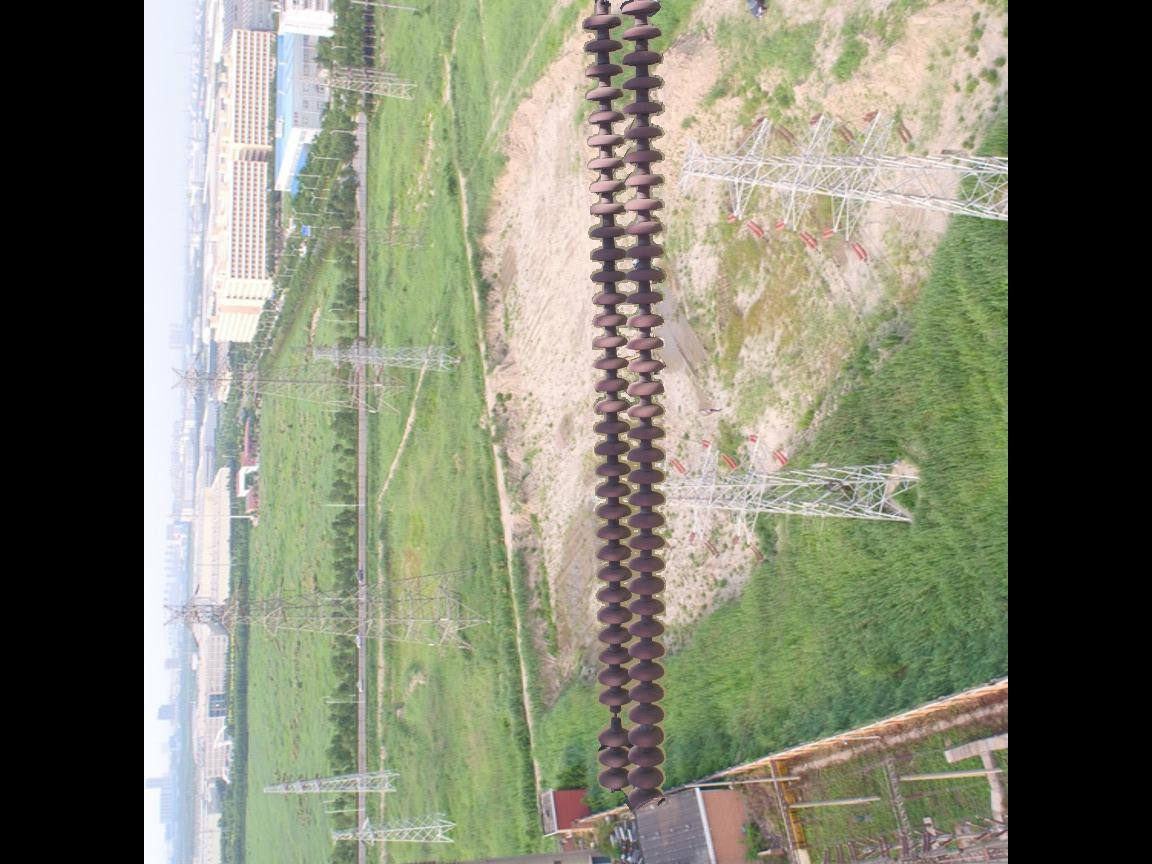insulator: (573, 1, 671, 810)
insulator_stringdrop: (594, 685, 634, 751)
